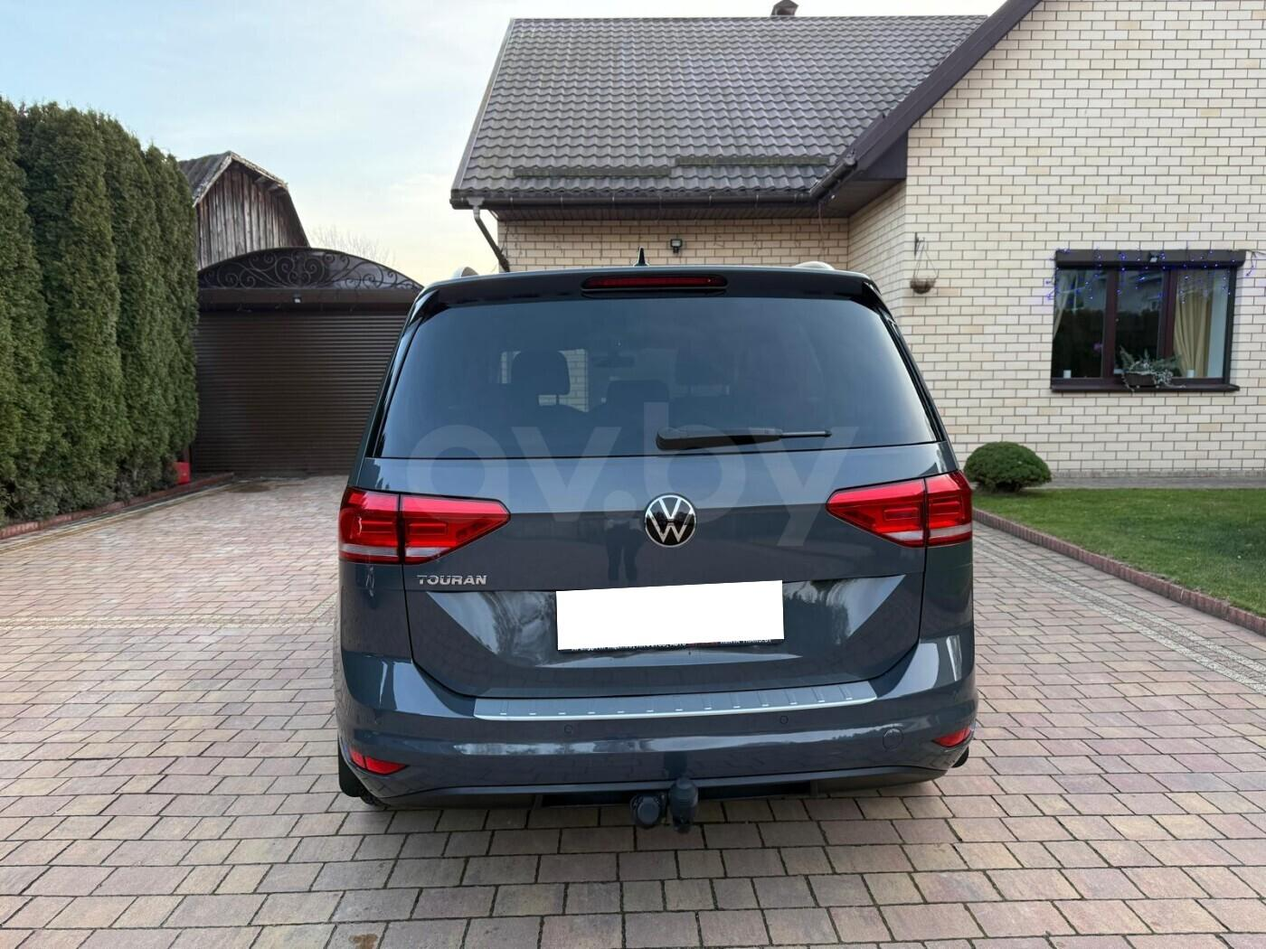Touran_2015: (322, 260, 987, 829)
